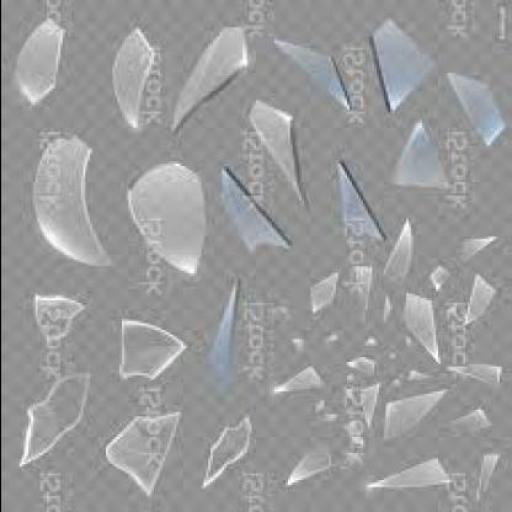glass: (30, 134, 109, 266), (123, 160, 201, 270), (166, 25, 246, 123), (11, 369, 89, 462), (100, 407, 178, 494), (213, 166, 285, 255), (366, 18, 433, 110), (244, 94, 300, 204), (272, 32, 350, 105), (385, 116, 451, 189), (328, 155, 382, 241), (444, 72, 502, 148), (11, 16, 57, 102), (109, 24, 146, 126), (114, 319, 178, 375), (200, 414, 246, 487), (396, 289, 440, 360), (382, 389, 446, 437), (205, 275, 232, 382), (373, 214, 415, 278), (360, 457, 444, 487), (278, 443, 330, 485), (32, 294, 78, 339), (457, 271, 492, 323), (300, 266, 338, 310), (448, 232, 492, 269), (269, 360, 323, 386), (344, 258, 369, 312), (440, 358, 498, 380), (354, 378, 376, 432), (439, 408, 487, 430), (472, 453, 494, 498), (339, 355, 371, 377), (426, 264, 450, 286), (400, 366, 428, 382), (374, 296, 387, 321), (312, 410, 332, 421), (271, 307, 289, 318), (355, 328, 369, 342), (307, 396, 323, 406), (390, 376, 400, 386), (288, 337, 298, 344), (384, 348, 394, 355), (400, 334, 407, 342), (343, 335, 346, 348)
